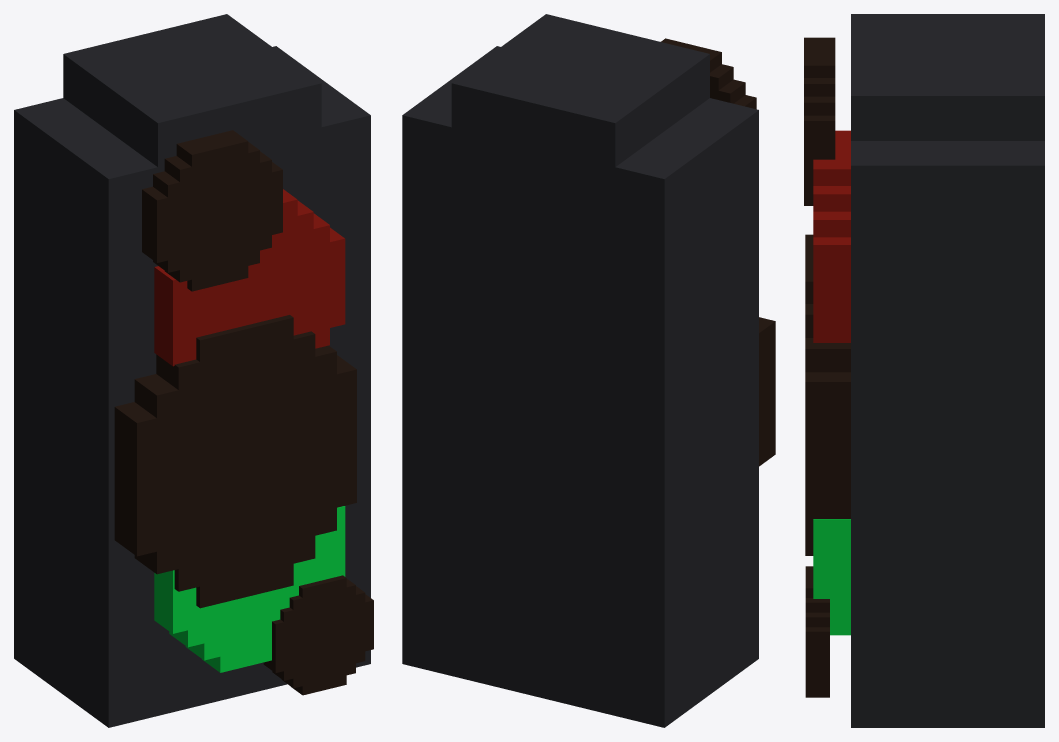
The model's file is Trafic_light_dirty.FBX.
3 views of the same model, side by side, from view 1: azimuth 30°, elevation 25°; view 2: azimuth 150°, elevation 25°; view 3: azimuth 270°, elevation 25° (orthographic). The views are drawn at different scales.
Visible parts, largest first — view 1: Box077, train_extra_nose_part010, train_extra_nose_part011, train_extra_nose_part007, train_extra_nose_part006, train_extra_nose_part012; view 2: Box077, train_extra_nose_part010, train_extra_nose_part011; view 3: Box077, train_extra_nose_part010, train_extra_nose_part007, train_extra_nose_part011, train_extra_nose_part006, train_extra_nose_part012.
Part boxes in pixels (box(x1,y1,x2,y2)): Box077: box(14, 14, 370, 727); train_extra_nose_part010: box(114, 315, 356, 608); train_extra_nose_part011: box(142, 130, 282, 291); train_extra_nose_part007: box(154, 189, 345, 366); train_extra_nose_part006: box(154, 506, 345, 672); train_extra_nose_part012: box(263, 575, 373, 695); Box077: box(402, 14, 758, 727); train_extra_nose_part010: box(759, 317, 775, 466); train_extra_nose_part011: box(661, 38, 756, 109); Box077: box(851, 14, 1044, 727); train_extra_nose_part010: box(805, 234, 850, 555); train_extra_nose_part007: box(813, 130, 850, 342); train_extra_nose_part011: box(804, 37, 835, 205); train_extra_nose_part006: box(813, 519, 850, 635); train_extra_nose_part012: box(805, 566, 829, 697).
Size of the model in its own units: 15.75 by 34.02 by 12.23.
